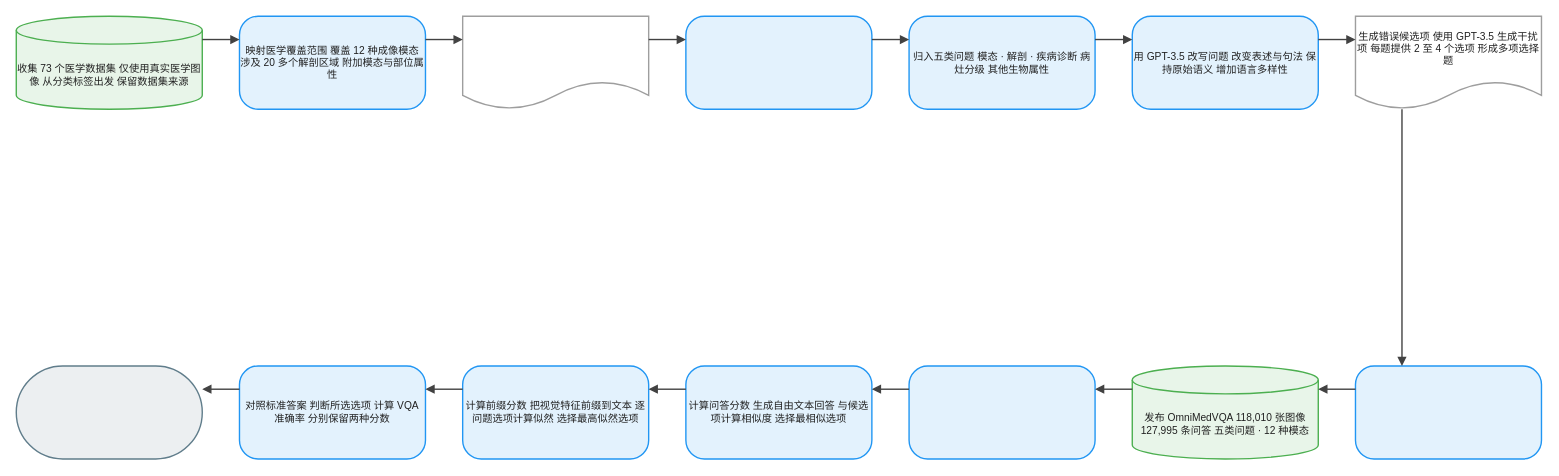
The diagram is 1559 pixels wide and 476 high, and some of its shapes have lost their labels. Here are the shapes that lost their labels. From the top down, the box of each, then its label:
(462, 15, 649, 110): 建立逐数据集问答模板 从原始类别生成问题 使用模态与解剖属性 产生候选问答条目
(685, 15, 872, 110): 执行反比例采样 估计每个模板的图像量 降低大模板采样率 避免重复问答偏差
(15, 365, 203, 459): 报告零样本结果 按五类问题汇总 分析各成像模态 报告总体问答与前缀分数
(908, 365, 1095, 459): 构建问答提示 组合图像与问题 插入候选选项 要求选择唯一答案
(1354, 365, 1542, 459): 执行人工双重检查 检查条目有效性 核验问题与选项 保留医学语义
